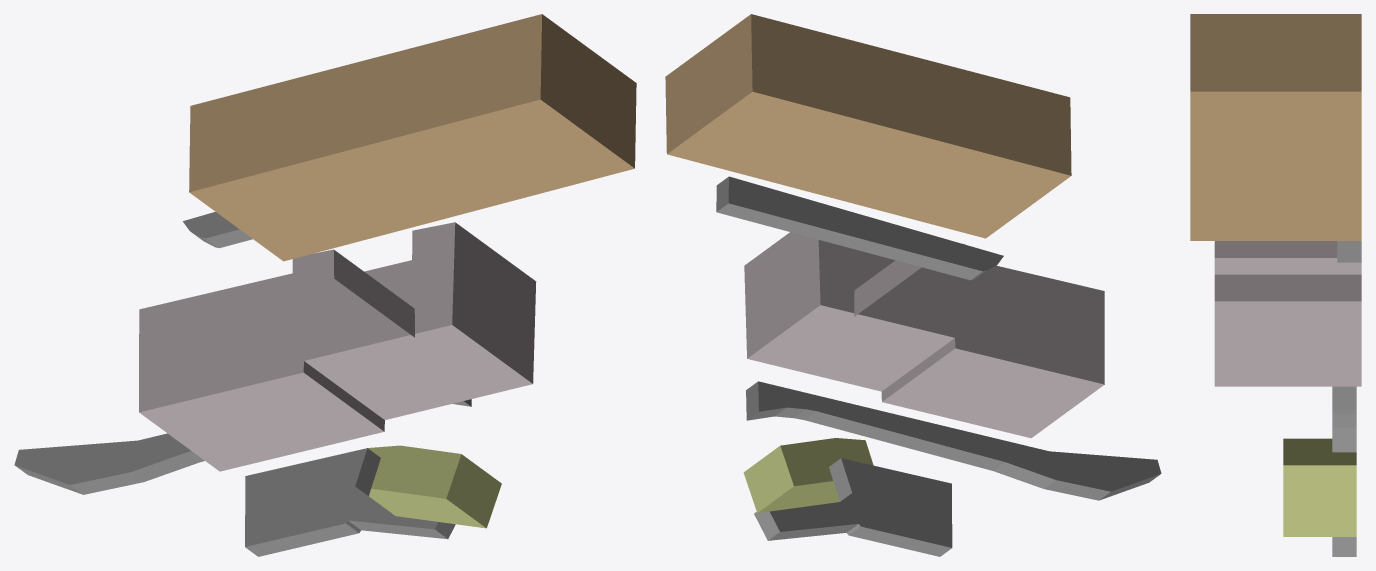
3 views of the same model, side by side, from view 1: azimuth 30°, elevation 25°; view 2: azimuth 150°, elevation 25°; view 3: azimuth 270°, elevation 25° (orthographic). The views are drawn at different scales.
Visible parts, largest first — view 1: 0_3_1_0_3_3; view 2: 0_3_1_0_3_3; view 3: 0_3_1_0_3_3.
Boxes of the visible parts, left/top/right/bottom form: 0_3_1_0_3_3: left=14, top=14, right=636, bottom=556; 0_3_1_0_3_3: left=665, top=14, right=1161, bottom=556; 0_3_1_0_3_3: left=1190, top=14, right=1361, bottom=556.
Size of the model in its own units: 68.11 by 59.7 by 21.
